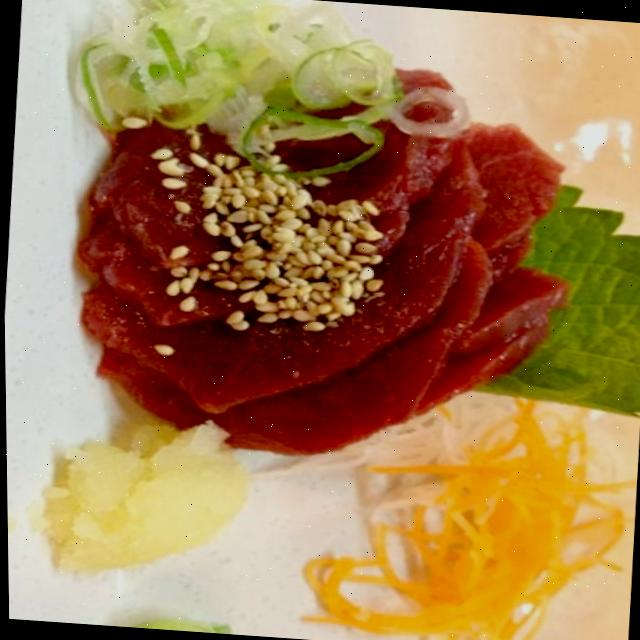刺身生食: (58, 22, 610, 477)
